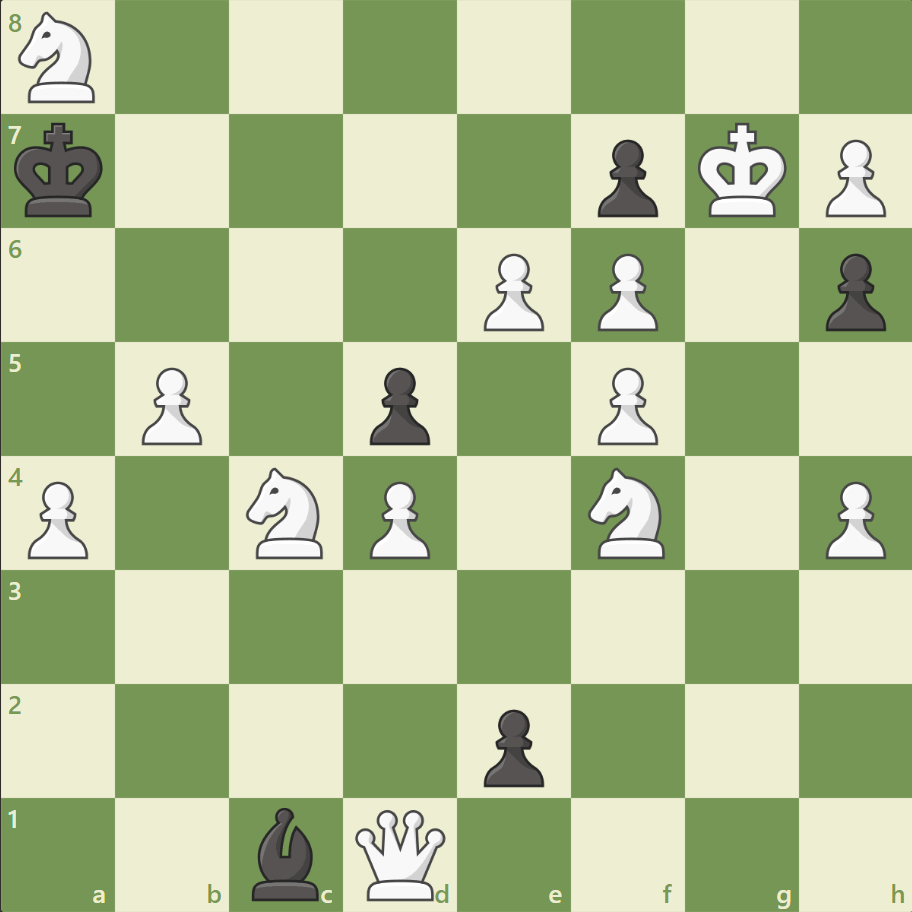K: (692, 117, 792, 225)
N: (11, 7, 108, 110), (238, 461, 335, 564), (579, 461, 676, 564)
P: (474, 246, 549, 337), (133, 359, 208, 450), (20, 473, 95, 564), (815, 132, 889, 223), (588, 246, 662, 337), (588, 359, 662, 450), (361, 473, 435, 564), (815, 473, 889, 564)
Q: (351, 804, 450, 903)
b: (244, 801, 328, 904)
k: (11, 117, 111, 225)
p: (474, 700, 549, 791), (588, 132, 662, 223), (815, 246, 889, 337), (361, 359, 435, 450)
